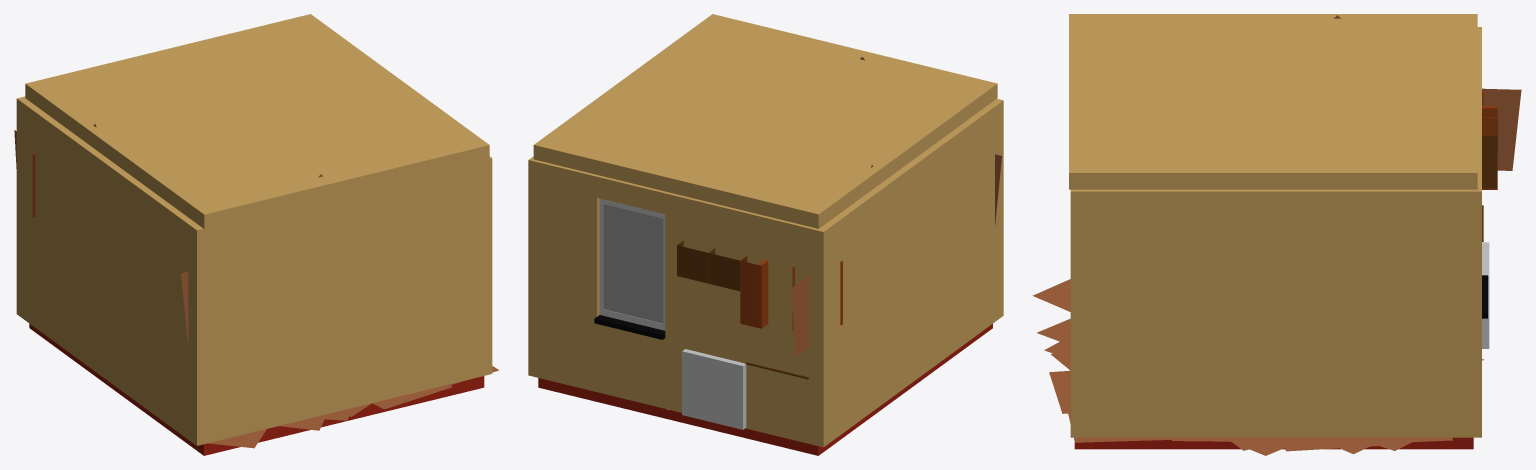
Rendered from FloorPlan23_Backup.fbx.
3 views of the same model, side by side, from view 1: azimuth 30°, elevation 25°; view 2: azimuth 150°, elevation 25°; view 3: azimuth 270°, elevation 25° (orthographic). The views are drawn at different scales.
Parts seen in each view (by area): view 1: Sphere.029, Sphere.028, Sphere.030, Decals.010, Decals.009; view 2: Sphere.029, Sphere.028, Sphere.025, Cube.361, Sphere.030, Cube.346, Cube.363, Decals.012; view 3: Sphere.029, Sphere.028, Sphere.030, Decals.009, Decals.007, Decals.012, Decals.010, Cube.363, Cube.361, Cube.346.
Boxes of the visible parts, <box> form: Sphere.029: <box>16,96,492,445</box>; Sphere.028: <box>25,14,489,228</box>; Sphere.030: <box>29,323,484,455</box>; Decals.010: <box>208,408,352,448</box>; Decals.009: <box>349,366,498,416</box>; Sphere.029: <box>528,98,1003,447</box>; Sphere.028: <box>533,14,997,228</box>; Sphere.025: <box>594,198,665,339</box>; Cube.361: <box>682,349,746,429</box>; Sphere.030: <box>538,324,992,455</box>; Cube.346: <box>740,256,842,330</box>; Cube.363: <box>677,240,747,291</box>; Decals.012: <box>791,165,873,356</box>; Sphere.029: <box>1070,27,1481,437</box>; Sphere.028: <box>1069,14,1477,189</box>; Sphere.030: <box>1074,437,1473,449</box>; Decals.009: <box>1049,353,1411,455</box>; Decals.007: <box>1226,359,1483,451</box>; Decals.012: <box>1334,15,1521,170</box>; Decals.010: <box>1032,279,1070,359</box>; Cube.363: <box>1482,118,1497,188</box>; Cube.361: <box>1482,242,1489,348</box>; Cube.346: <box>1482,91,1497,189</box>.
Bounding box in the file's own units: 475 × 334 × 526.
